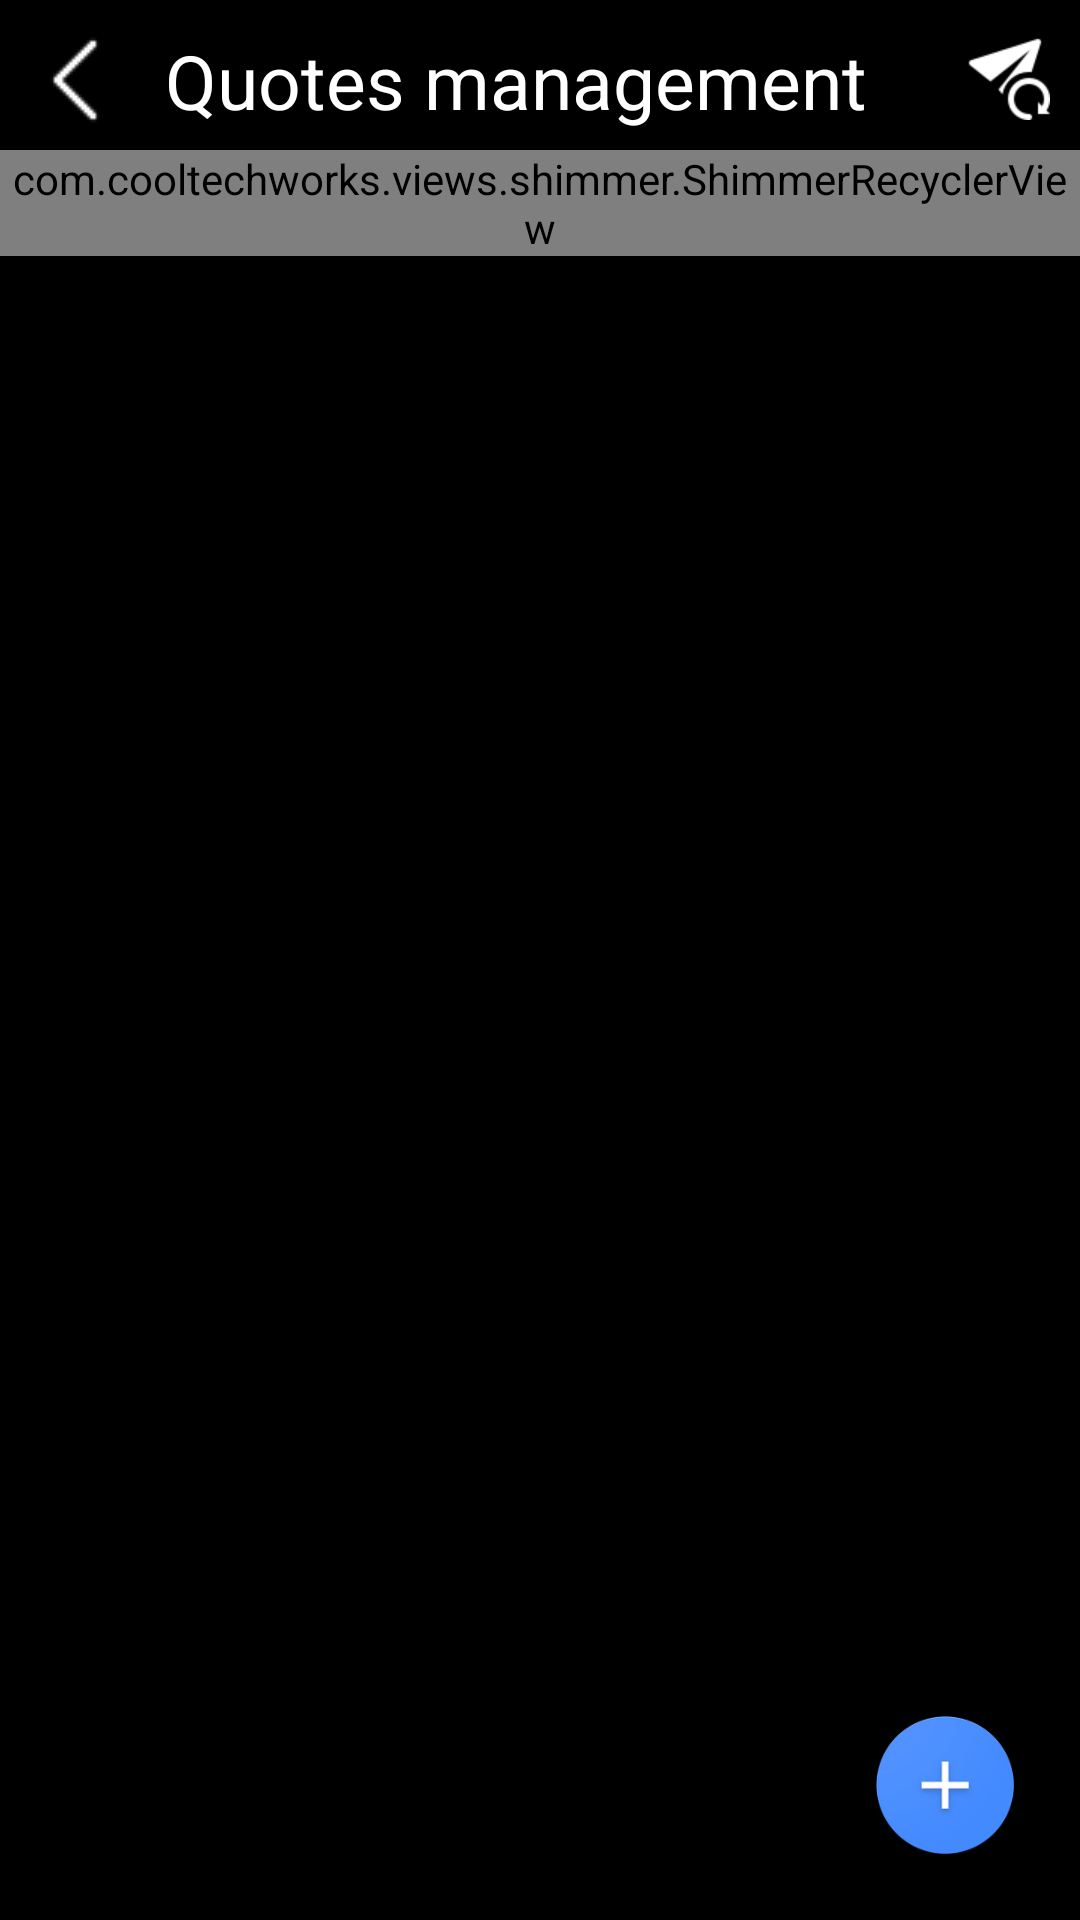

Screen size 1080 x 1920. Icon name, then its box in pixels as (x1, y1, x2, y2):
back: (53, 40, 97, 120)
send random: (968, 38, 1050, 120)
